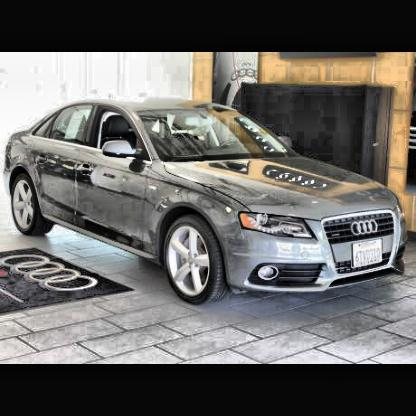Audi S4 Sedan 2012: (4, 104, 412, 312)
